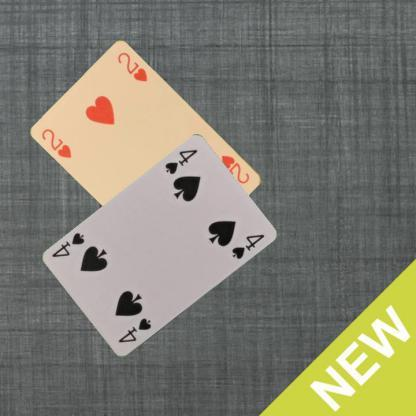2h: (218, 152, 252, 186), (40, 126, 74, 160)
4s: (162, 146, 199, 176), (116, 315, 152, 344)
